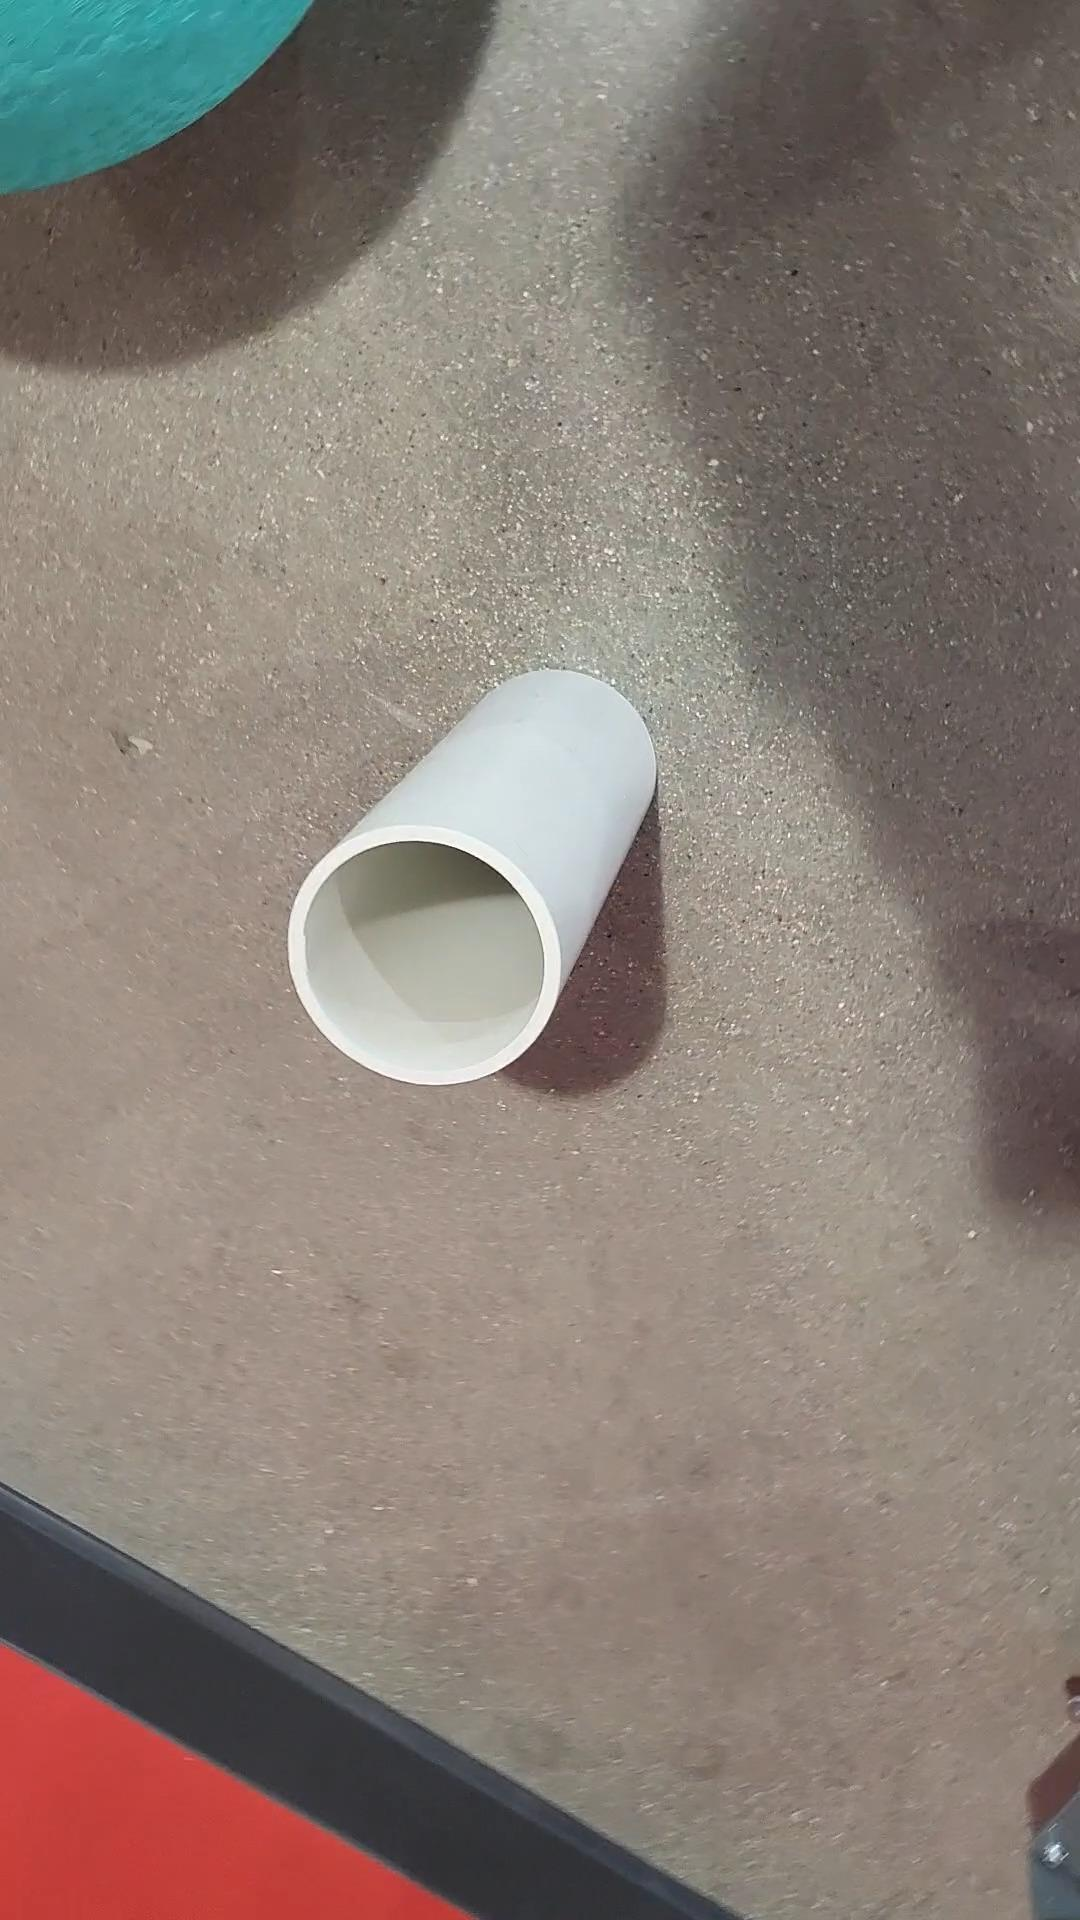algae: (0, 0, 314, 210)
coral: (286, 671, 646, 1106)
